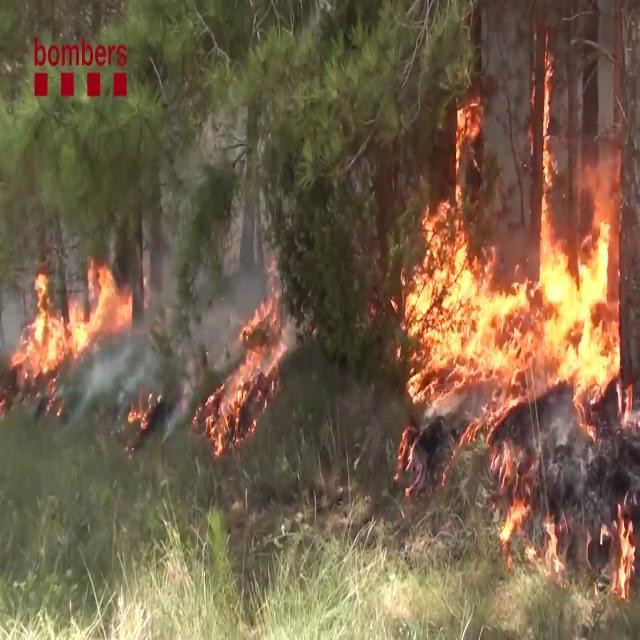Fire: (392, 73, 620, 421), (15, 252, 134, 378), (208, 277, 290, 451), (609, 498, 639, 602)
